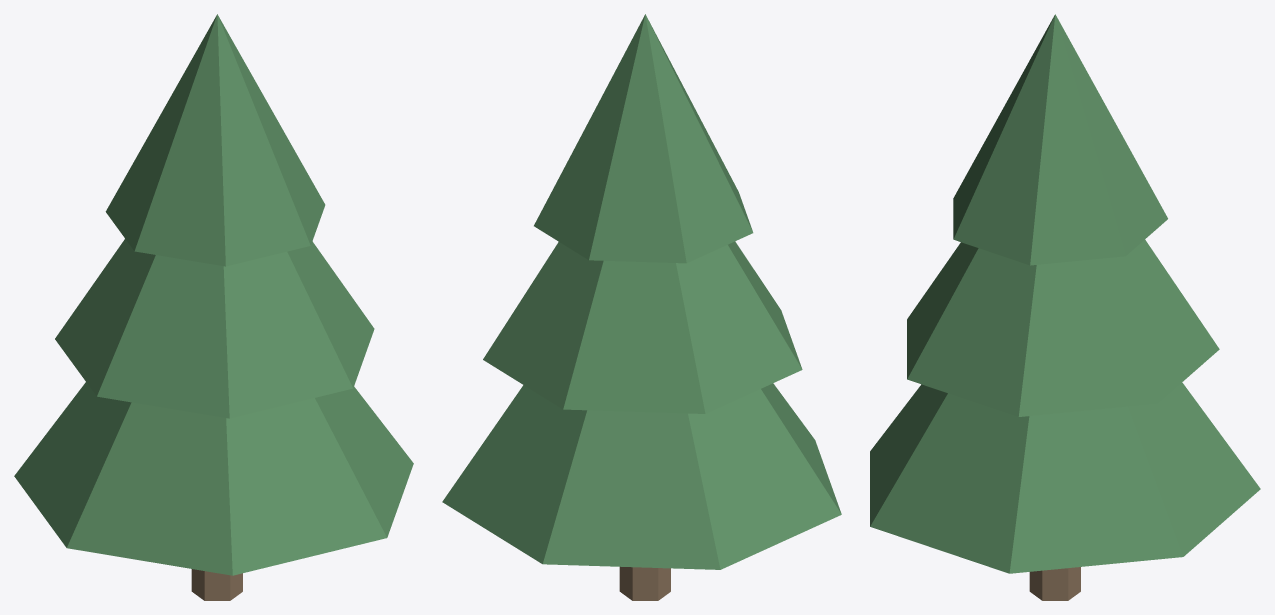
Rendered from pine.glb.
3 views of the same model, side by side, from view 1: azimuth 30°, elevation 25°; view 2: azimuth 150°, elevation 25°; view 3: azimuth 270°, elevation 25° (orthographic).
Parts seen in each view (by area): view 1: pine; view 2: pine; view 3: pine.
Part boxes in pixels (box(x1,y1,x2,y2)): pine: box(14, 14, 413, 600); pine: box(442, 14, 841, 600); pine: box(870, 14, 1260, 600).
Bounding box in the file's own units: 3.9 × 6.2 × 3.8.
